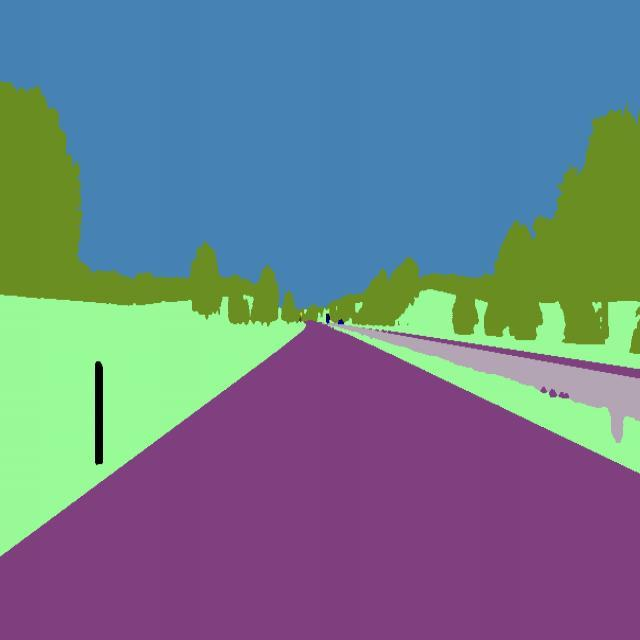safe: (336, 314, 344, 328), (324, 311, 331, 327)
